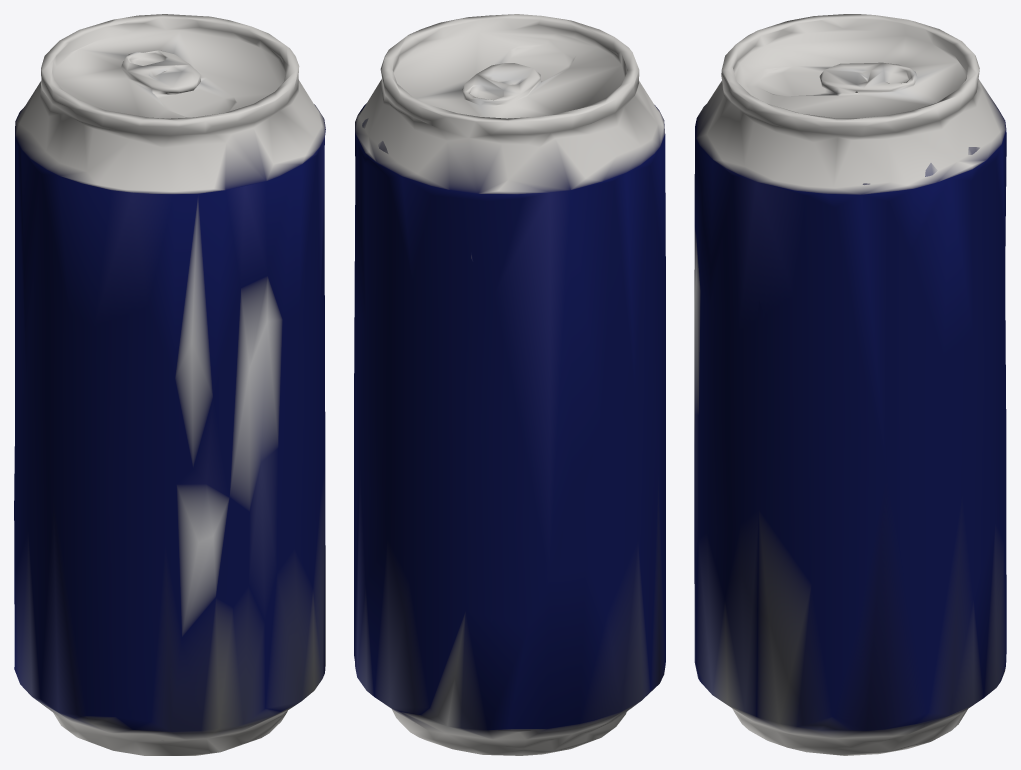
File: gen3d-soda-can-lod1.glb
3 views of the same model, side by side, from view 1: azimuth 30°, elevation 25°; view 2: azimuth 150°, elevation 25°; view 3: azimuth 270°, elevation 25° (orthographic).
Visible parts, largest first — view 1: part_0; view 2: part_0; view 3: part_0.
Part boxes in pixels (bbox=[...]): part_0: bbox=[14, 14, 325, 755]; part_0: bbox=[354, 14, 665, 755]; part_0: bbox=[694, 14, 1006, 755].
Bounding box in the file's own units: 0.4424 × 0.9999 × 0.4424.
